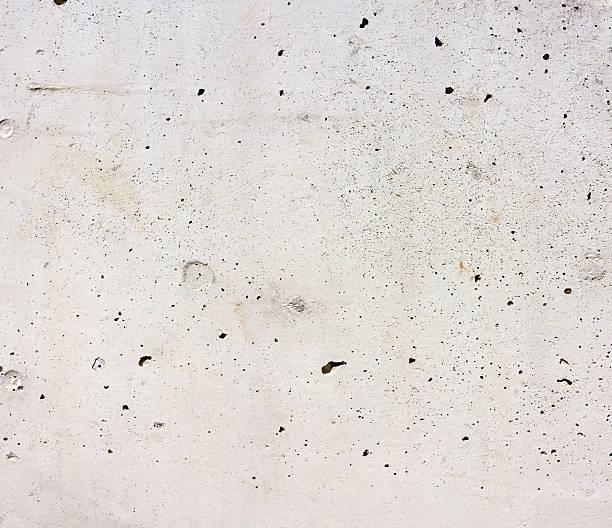Spalling: (1, 1, 612, 494)
